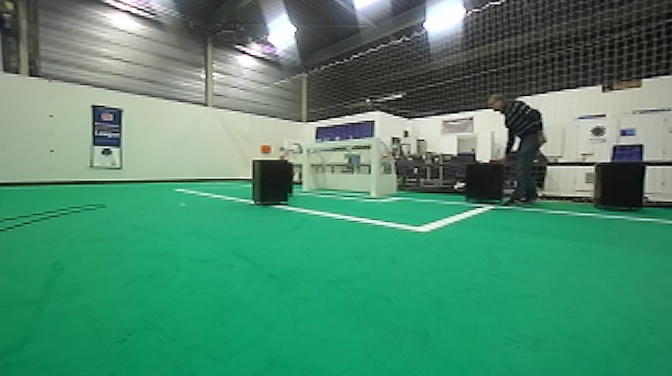goalpost: (368, 133, 383, 199), (298, 147, 311, 195)
human: (485, 91, 554, 204)
